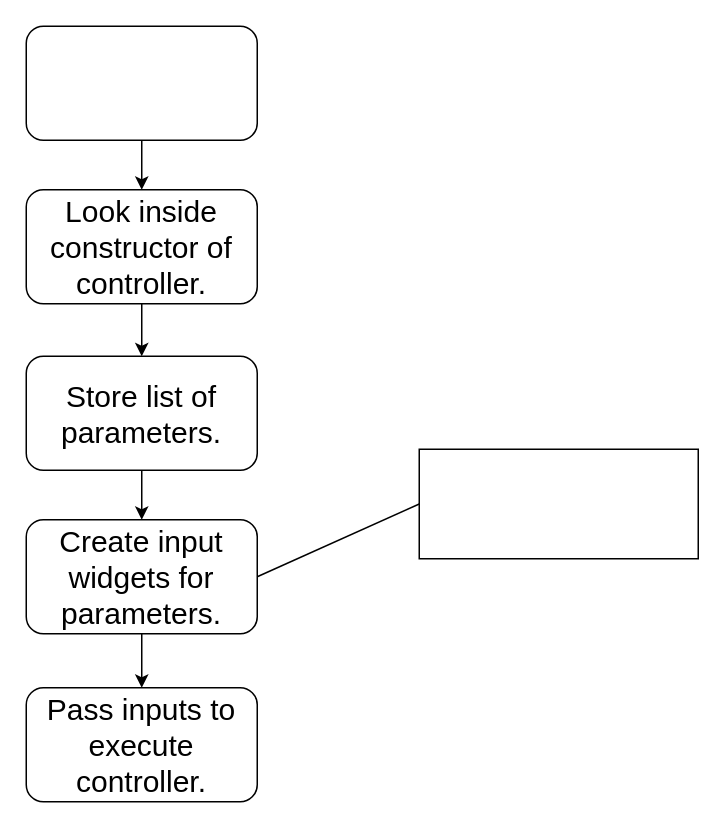
This 725x828 diagram has some shape labels left out. The centre of each missing label's shape, as x and y in pixels:
"Associated widget type stored in dictionary lookup." belongs at point (558, 503).
"Select controller from drop down." belongs at point (141, 82).
